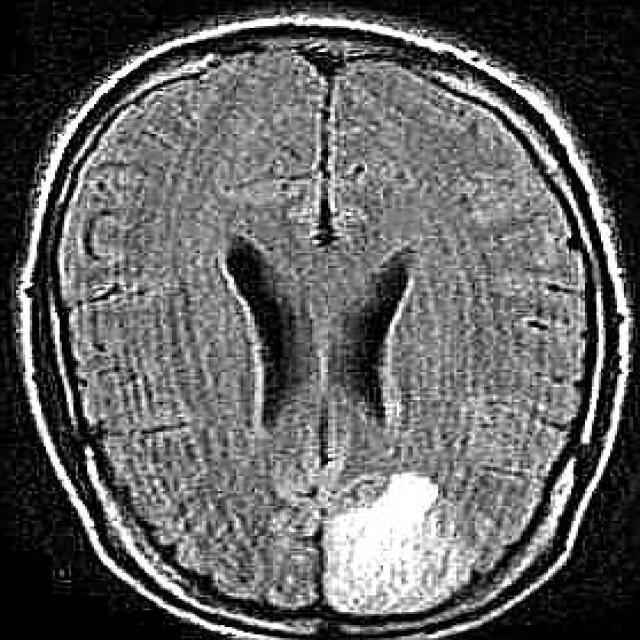tumor: (319, 471, 454, 614)
